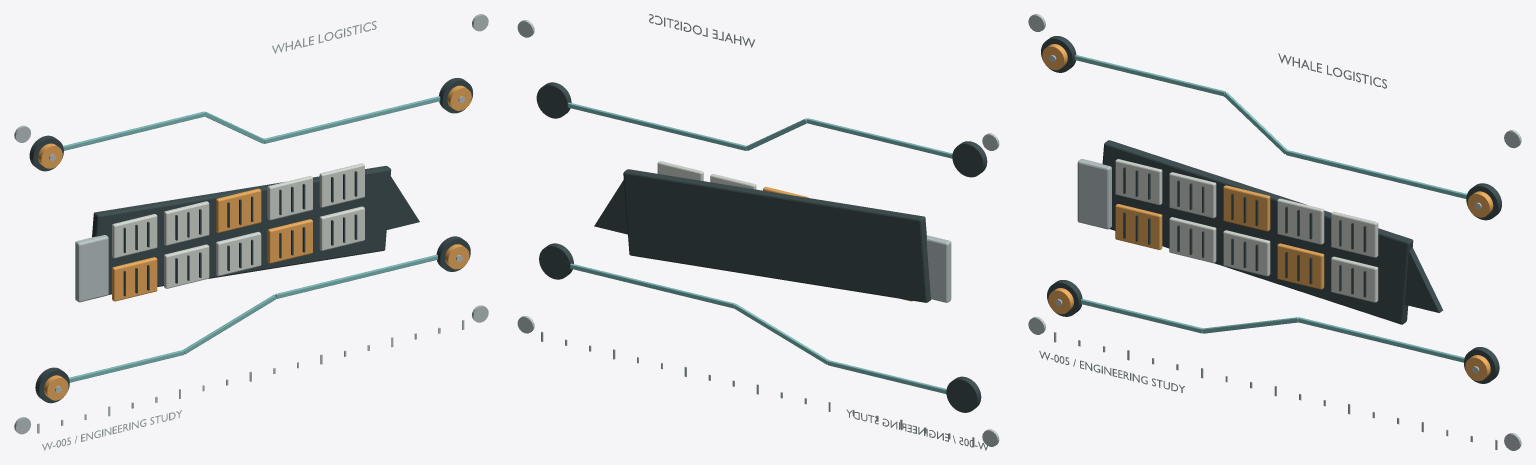
The model's file is whale.glb.
3 renders of one model, left to right at view 1: azimuth 30°, elevation 25°; view 2: azimuth 150°, elevation 25°; view 3: azimuth 330°, elevation 25°, orthographic. The views are drawn at different scales.
Parts seen in each view (by area): view 1: optical-core__Project_Graphite.004, optical-core__Project_Ceramic.003, optical-core__Project_Amber.004, optical-lenses__Project_Trace.004, optical-lenses__Project_Silver.004, optical-core__Project_Silver.004; view 2: optical-core__Project_Graphite.004, optical-lenses__Project_Trace.004, optical-lenses__Project_Silver.004, optical-core__Project_Silver.004, optical-core__Project_Ceramic.003; view 3: optical-core__Project_Graphite.004, optical-core__Project_Ceramic.003, optical-core__Project_Amber.004, optical-lenses__Project_Trace.004, optical-lenses__Project_Silver.004, optical-core__Project_Silver.004.
Boxes of the visible parts, <box> form: optical-core__Project_Graphite.004: <box>29,78,473,403</box>; optical-core__Project_Ceramic.003: <box>112,163,364,288</box>; optical-core__Project_Amber.004: <box>38,85,471,400</box>; optical-lenses__Project_Trace.004: <box>63,96,440,382</box>; optical-lenses__Project_Silver.004: <box>14,14,488,450</box>; optical-core__Project_Silver.004: <box>49,96,465,392</box>; optical-core__Project_Graphite.004: <box>536,82,987,412</box>; optical-lenses__Project_Trace.004: <box>567,102,952,393</box>; optical-lenses__Project_Silver.004: <box>517,14,999,450</box>; optical-core__Project_Silver.004: <box>926,235,951,302</box>; optical-core__Project_Ceramic.003: <box>657,161,756,189</box>; optical-core__Project_Graphite.004: <box>1041,36,1501,383</box>; optical-core__Project_Ceramic.003: <box>1115,159,1378,302</box>; optical-core__Project_Amber.004: <box>1042,44,1493,381</box>; optical-lenses__Project_Trace.004: <box>1075,55,1466,362</box>; optical-lenses__Project_Silver.004: <box>1028,14,1521,450</box>; optical-core__Project_Silver.004: <box>1049,55,1481,373</box>.
Bounding box in the file's own units: 4.01 × 2.83 × 0.154.
